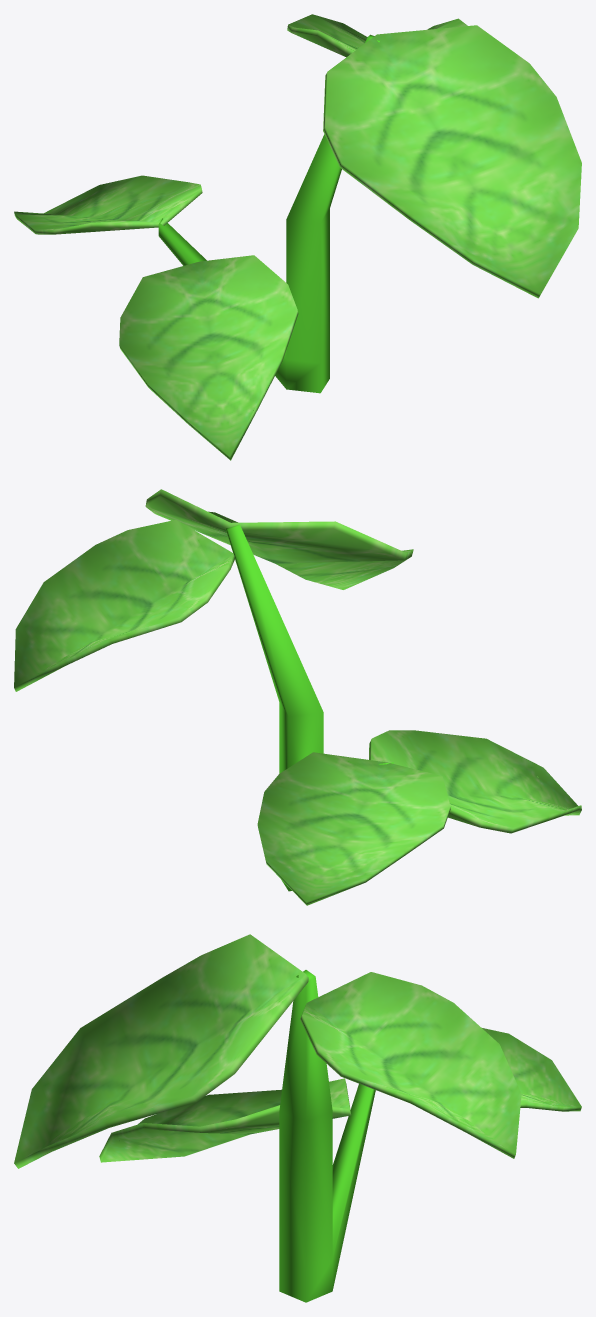
3 renders of one model, top to bottom at view 1: azimuth 30°, elevation 25°; view 2: azimuth 150°, elevation 25°; view 3: azimuth 270°, elevation 25°, orthographic. The views are drawn at different scales.
Visible parts, largest first — view 1: 立方体; view 2: 立方体; view 3: 立方体.
Part boxes in pixels (x1,y1,x2,y2): 立方体: (14,14,581,460); 立方体: (14,489,581,905); 立方体: (14,934,581,1302).
Bounding box in the file's own units: 1.68 × 1.31 × 1.91.
